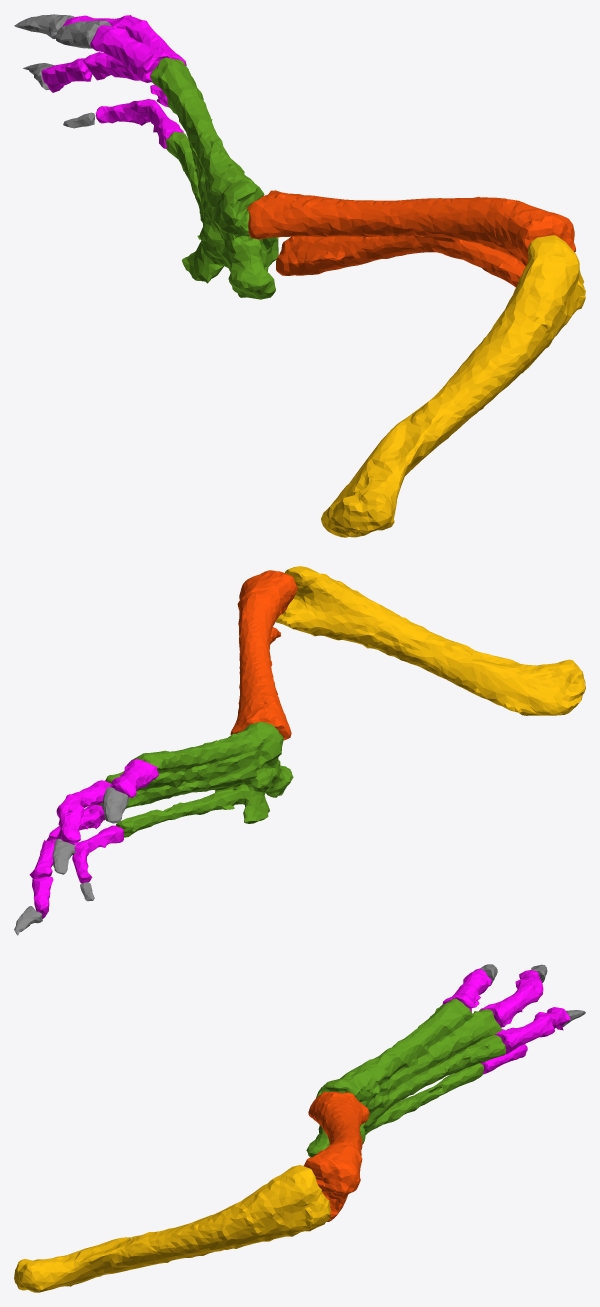
Rendered from foot_right.glb.
3 views of the same model, one above another, from view 1: azimuth 30°, elevation 25°; view 2: azimuth 150°, elevation 25°; view 3: azimuth 330°, elevation 25° (orthographic). The views are drawn at different scales.
Visible parts, largest first — view 1: Shape_IndexedFaceSet.004, Shape_IndexedFaceSet, Shape_IndexedFaceSet.001, Shape_IndexedFaceSet.003, Shape_IndexedFaceSet.002; view 2: Shape_IndexedFaceSet, Shape_IndexedFaceSet.001, Shape_IndexedFaceSet.004, Shape_IndexedFaceSet.003, Shape_IndexedFaceSet.002; view 3: Shape_IndexedFaceSet, Shape_IndexedFaceSet.001, Shape_IndexedFaceSet.004, Shape_IndexedFaceSet.003, Shape_IndexedFaceSet.002.
Boxes of the visible parts, x1=… form: Shape_IndexedFaceSet.004: x1=247, y1=190, x2=575, y2=287; Shape_IndexedFaceSet: x1=321, y1=235, x2=585, y2=537; Shape_IndexedFaceSet.001: x1=150, y1=57, x2=278, y2=299; Shape_IndexedFaceSet.003: x1=41, y1=15, x2=186, y2=148; Shape_IndexedFaceSet.002: x1=14, y1=14, x2=111, y2=128; Shape_IndexedFaceSet: x1=275, y1=566, x2=585, y2=715; Shape_IndexedFaceSet.001: x1=98, y1=721, x2=293, y2=837; Shape_IndexedFaceSet.004: x1=230, y1=570, x2=297, y2=740; Shape_IndexedFaceSet.003: x1=29, y1=759, x2=158, y2=918; Shape_IndexedFaceSet.002: x1=14, y1=786, x2=128, y2=935; Shape_IndexedFaceSet: x1=14, y1=1165, x2=331, y2=1292; Shape_IndexedFaceSet.001: x1=306, y1=998, x2=505, y2=1157; Shape_IndexedFaceSet.004: x1=303, y1=1091, x2=369, y2=1221; Shape_IndexedFaceSet.003: x1=442, y1=968, x2=570, y2=1074; Shape_IndexedFaceSet.002: x1=473, y1=964, x2=585, y2=1027.
Bounding box in the file's own units: 0.0186 × 0.00924 × 0.0511.
